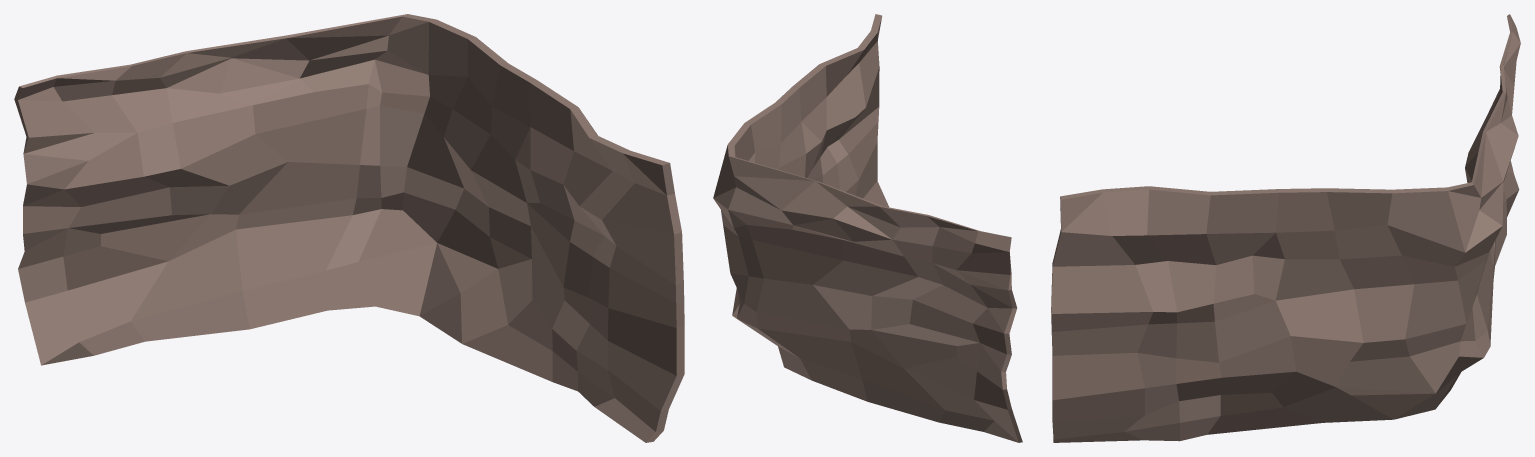
File: cave wall curve.fbx
3 views of the same model, side by side, from view 1: azimuth 30°, elevation 25°; view 2: azimuth 150°, elevation 25°; view 3: azimuth 270°, elevation 25° (orthographic). The views are drawn at different scales.
Visible parts, largest first — view 1: Plane.003; view 2: Plane.003; view 3: Plane.003.
Boxes of the visible parts, box(x1,y1,x2,y2) form: Plane.003: box(14, 14, 684, 442); Plane.003: box(713, 14, 1022, 442); Plane.003: box(1051, 14, 1520, 442).
Bounding box in the file's own units: 1898 × 1175 × 1969.
